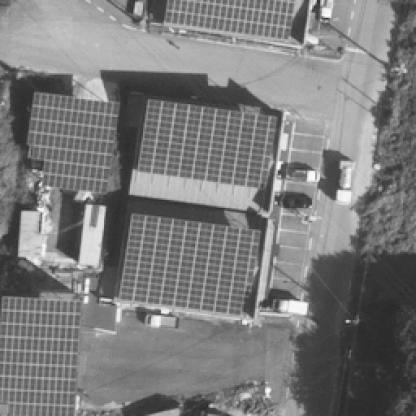solar-pv-panel: (118, 213, 258, 313), (136, 99, 278, 188), (0, 295, 81, 416), (27, 91, 120, 191), (163, 0, 296, 41)
